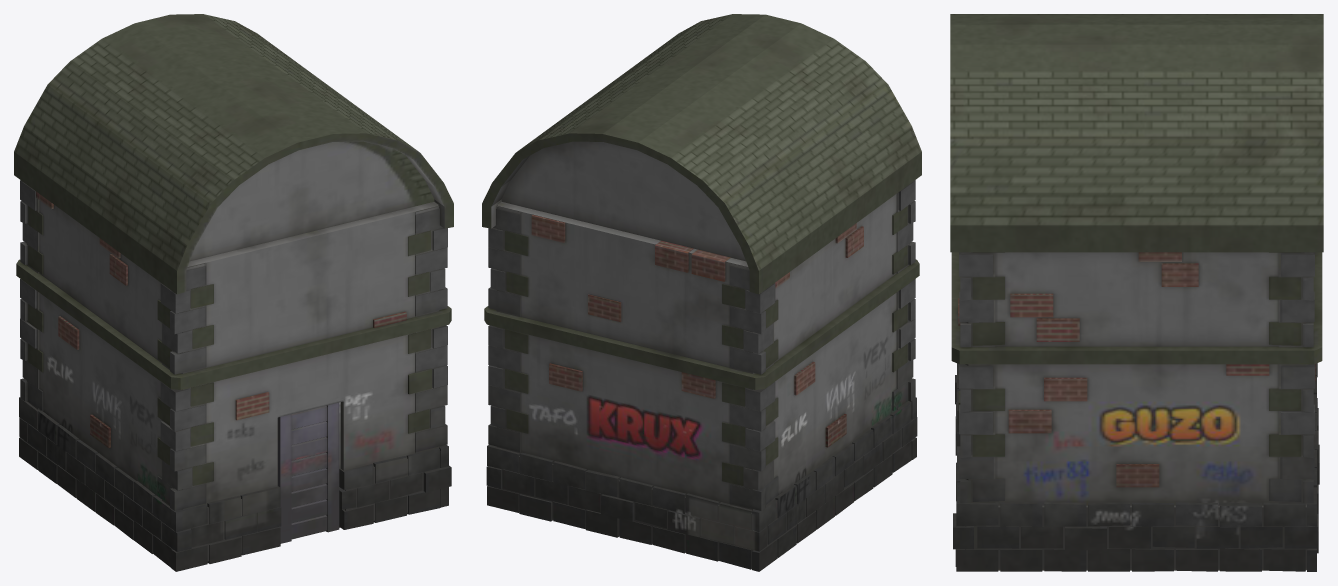
Rendered from building_2Story_RoundRoof.glb.
3 renders of one model, left to right at view 1: azimuth 30°, elevation 25°; view 2: azimuth 150°, elevation 25°; view 3: azimuth 270°, elevation 25°, orthographic. The views are drawn at different scales.
Parts seen in each view (by area): view 1: 2Story_RoundRoof_low; view 2: 2Story_RoundRoof_low; view 3: 2Story_RoundRoof_low.
Boxes of the visible parts, x1=… form: 2Story_RoundRoof_low: x1=14, y1=14, x2=453, y2=571; 2Story_RoundRoof_low: x1=482, y1=14, x2=921, y2=571; 2Story_RoundRoof_low: x1=950, y1=14, x2=1323, y2=571.
Bounding box in the file's own units: 2.11 × 2.9 × 2.13.
Materials: 1 (1 with a texture image).
